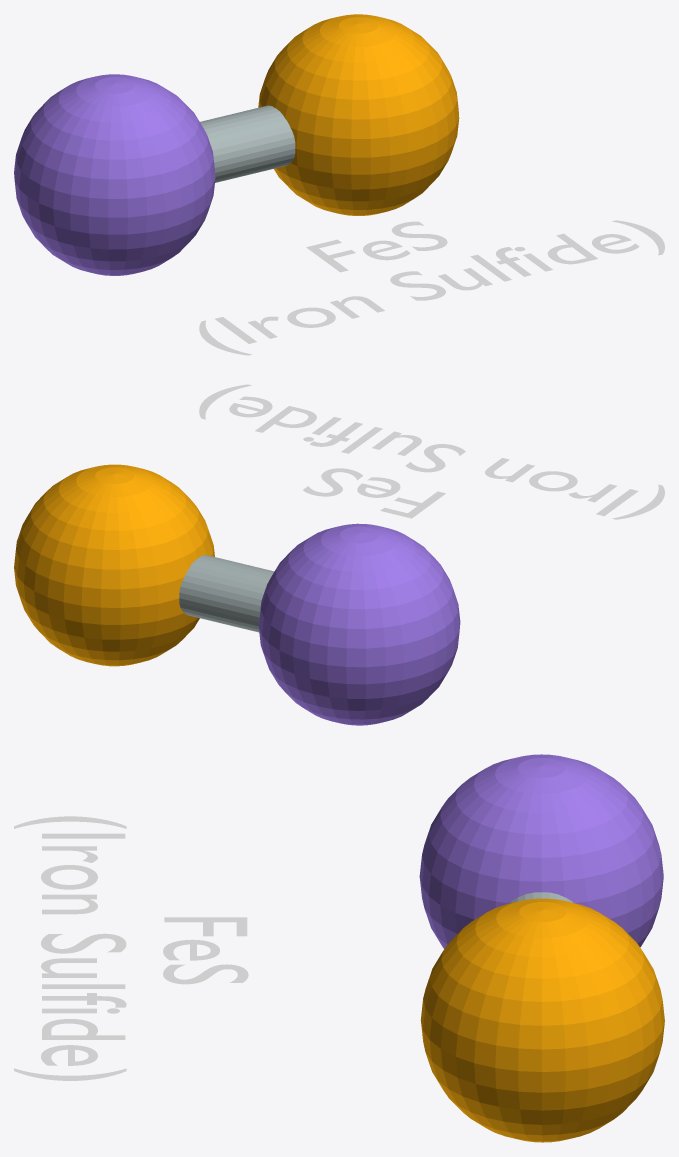
Rendered from FeS molecule.fbx.
The picture shows the model from 3 angles, top to bottom: view 1: azimuth 30°, elevation 25°; view 2: azimuth 150°, elevation 25°; view 3: azimuth 270°, elevation 25°; orthographic projection. The views are drawn at different scales.
Parts seen in each view (by area): view 1: Sphere, Sphere.001, Text, Cylinder; view 2: Sphere, Sphere.001, Text, Cylinder; view 3: Sphere.001, Sphere, Text.
Part boxes in pixels (x1,y1,x2,y2): Sphere: (14,74,215,275); Sphere.001: (258,14,459,215); Text: (199,220,664,355); Cylinder: (200,105,295,182); Sphere: (258,523,460,725); Sphere.001: (14,464,214,666); Text: (199,384,664,519); Cylinder: (179,555,274,632); Sphere.001: (420,898,664,1142); Sphere: (419,754,663,948); Text: (14,816,248,1080).
Size of the model in its own units: 513 by 200 by 533.
